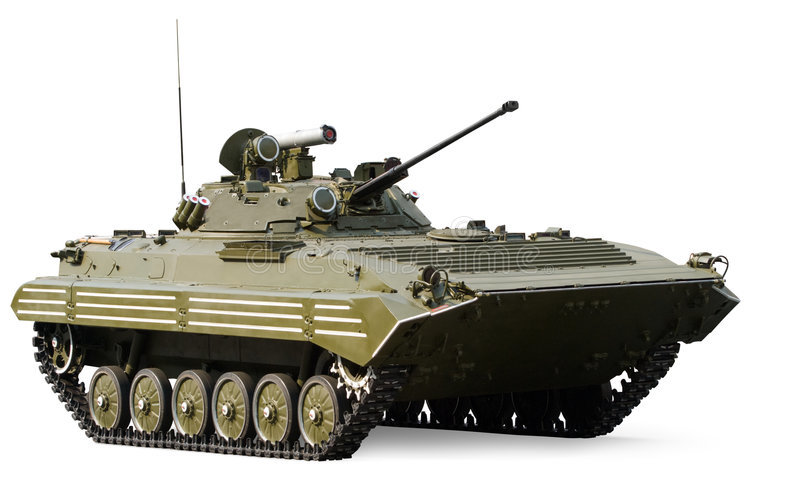bmp: (17, 129, 740, 461)
